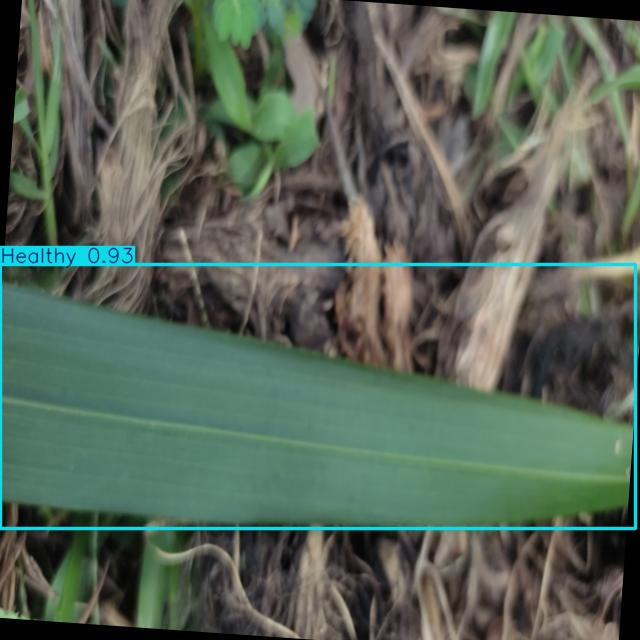Healthy: (0, 265, 635, 529)
